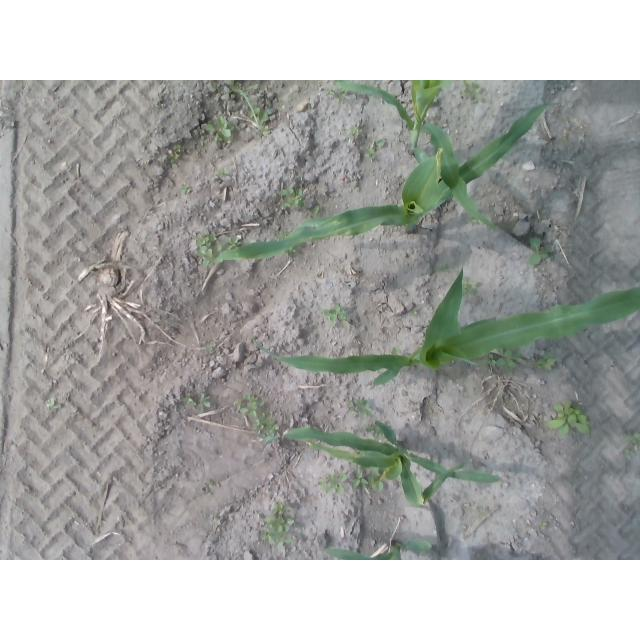Maize: (215, 104, 562, 261), (256, 267, 640, 386), (333, 81, 503, 235), (283, 424, 501, 505), (318, 537, 432, 559)
Weeds: (548, 401, 593, 440), (264, 502, 292, 547), (348, 469, 388, 497), (209, 114, 239, 148), (183, 389, 217, 415), (236, 394, 269, 419), (324, 306, 352, 334), (321, 470, 348, 499), (280, 184, 306, 214), (251, 109, 273, 140), (527, 235, 549, 265), (255, 418, 281, 443), (194, 233, 214, 262), (367, 136, 388, 163), (467, 82, 489, 107), (499, 351, 523, 373), (537, 352, 561, 373), (624, 429, 640, 460), (351, 399, 374, 419), (43, 394, 66, 412), (172, 143, 185, 165), (226, 233, 245, 248), (215, 167, 234, 181), (312, 201, 324, 220), (181, 184, 193, 199), (351, 131, 362, 142)
